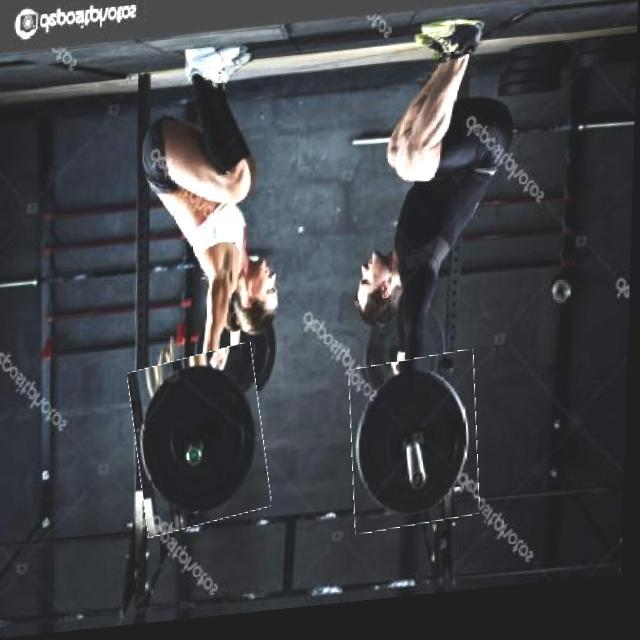barbell: (133, 351, 273, 539), (352, 362, 486, 542)
